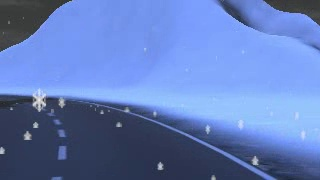Lane: (0, 94, 281, 179)
